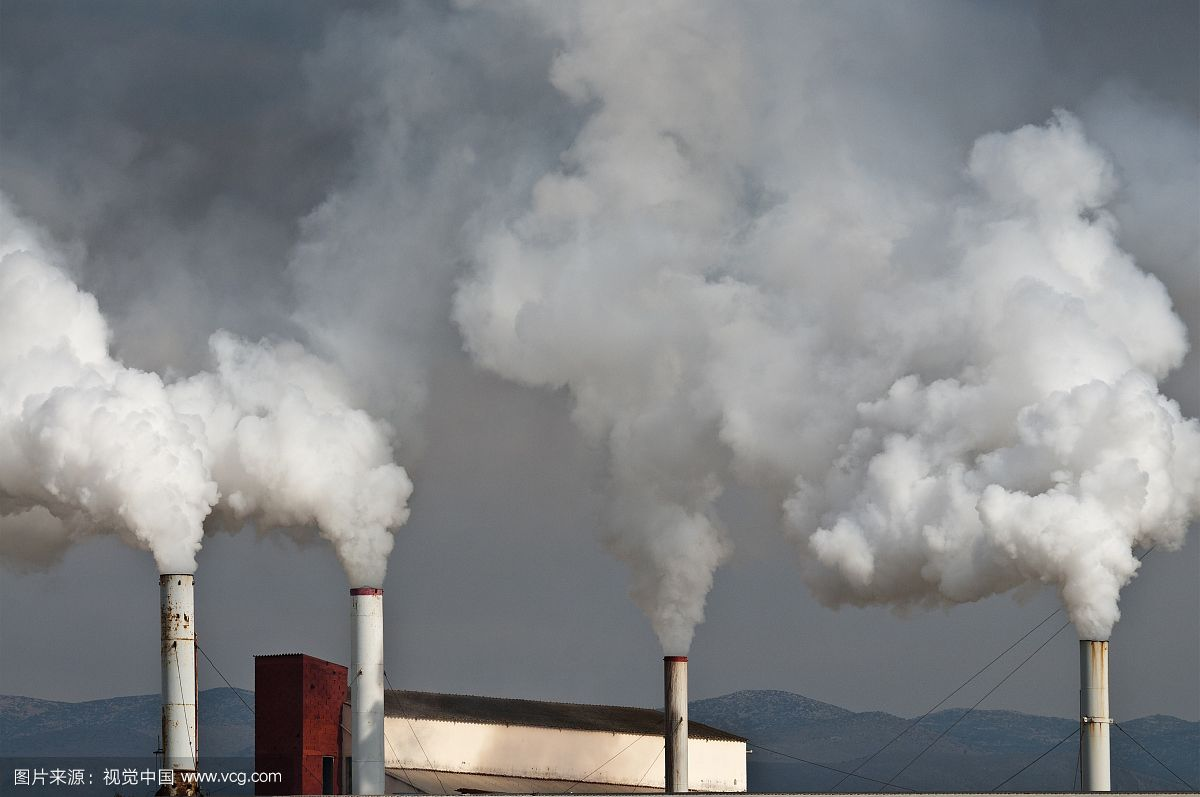dust: (869, 227, 1198, 655), (30, 334, 219, 587), (577, 381, 734, 682), (239, 354, 418, 600)
